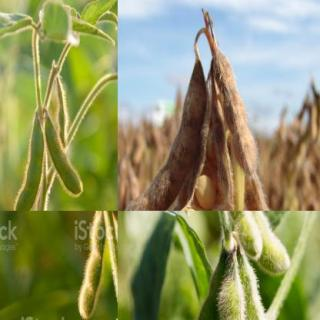soya: (122, 58, 206, 210), (213, 51, 256, 171), (247, 211, 292, 276), (46, 115, 82, 196), (78, 211, 104, 319), (13, 125, 45, 210), (239, 270, 288, 319), (225, 211, 264, 261), (216, 278, 259, 320), (246, 175, 288, 210), (176, 287, 219, 319), (57, 78, 68, 144)
